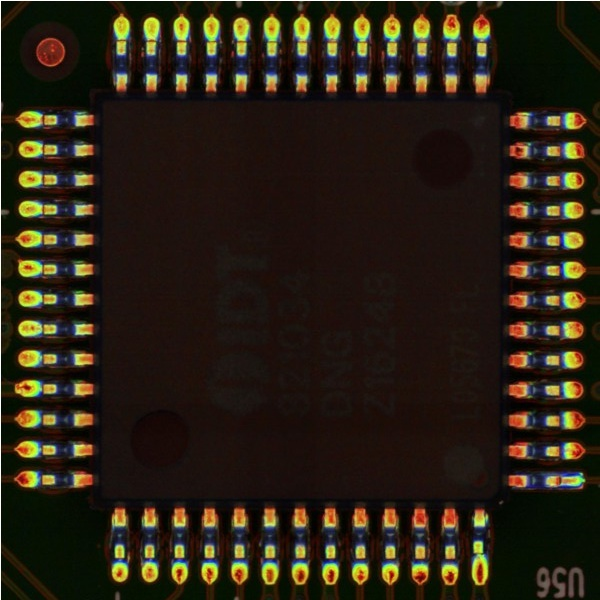Bad_podu: (555, 475, 571, 485)
